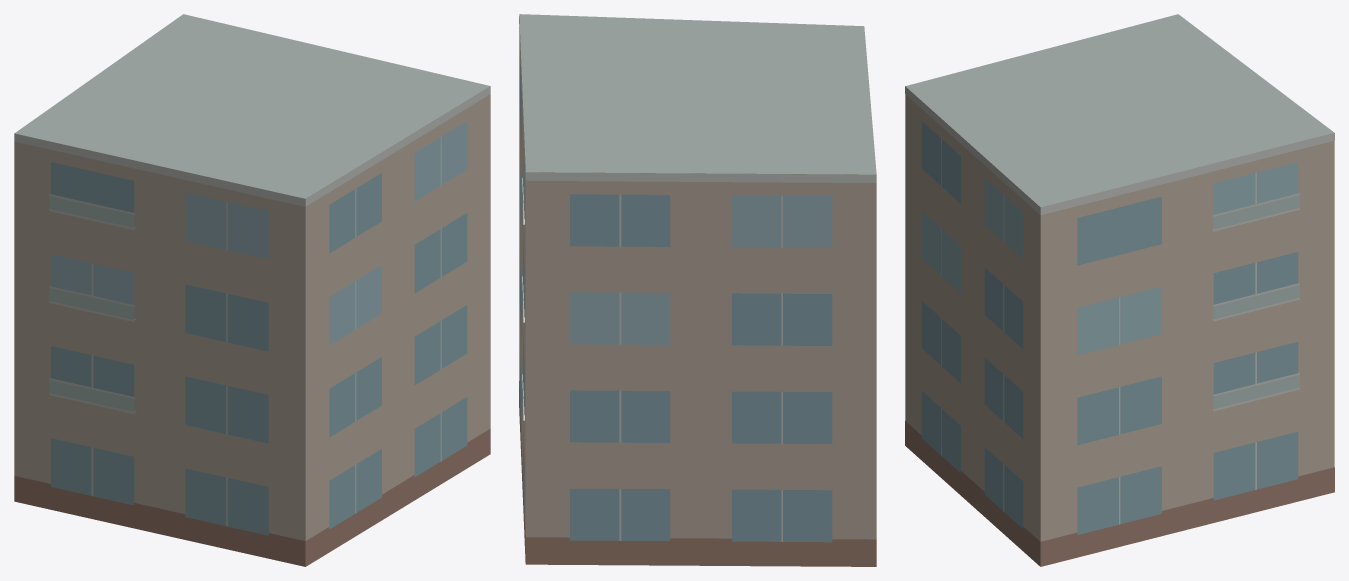
Rendered from survey-upis-32721341.glb.
The picture shows the model from 3 angles, left to right: view 1: azimuth 30°, elevation 25°; view 2: azimuth 150°, elevation 25°; view 3: azimuth 270°, elevation 25°; orthographic projection. The views are drawn at different scales.
Visible parts, largest first — view 1: survey-upis-32721341.tmp; view 2: survey-upis-32721341.tmp; view 3: survey-upis-32721341.tmp.
Boxes of the visible parts, x1,y1,x2,y2 form: survey-upis-32721341.tmp: (14, 14, 490, 566); survey-upis-32721341.tmp: (519, 14, 876, 566); survey-upis-32721341.tmp: (905, 14, 1334, 566).
Bounding box in the file's own units: 12.93 × 11.2 × 12.14.
